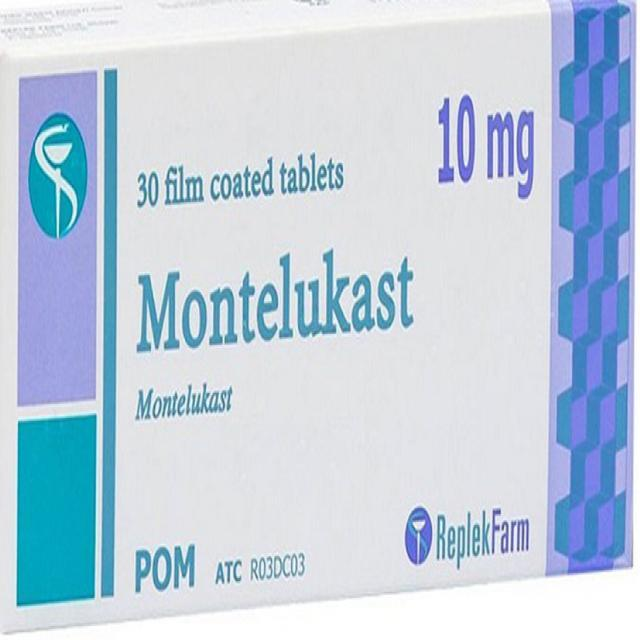drug-name: (130, 250, 423, 352)
